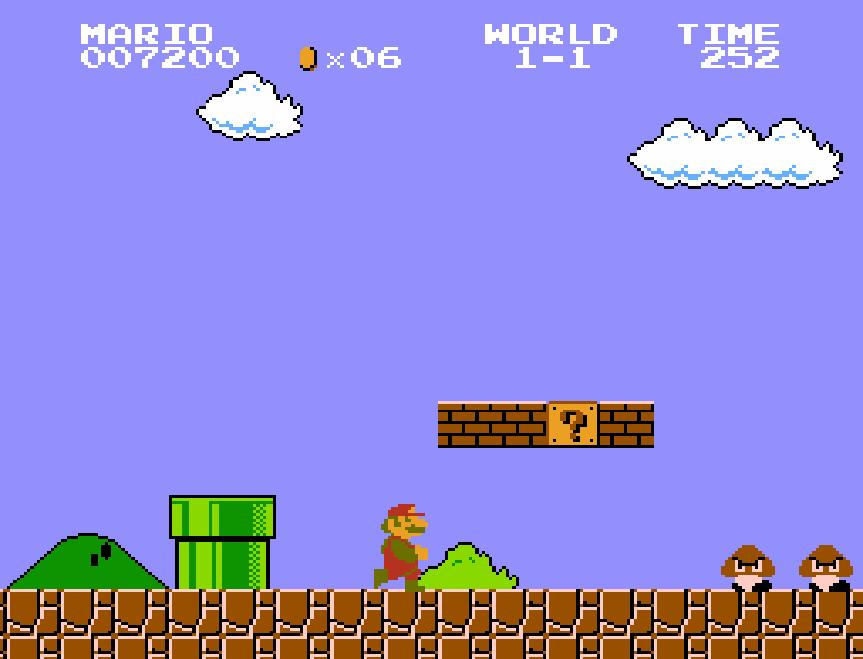big_mario: (372, 496, 430, 594)
